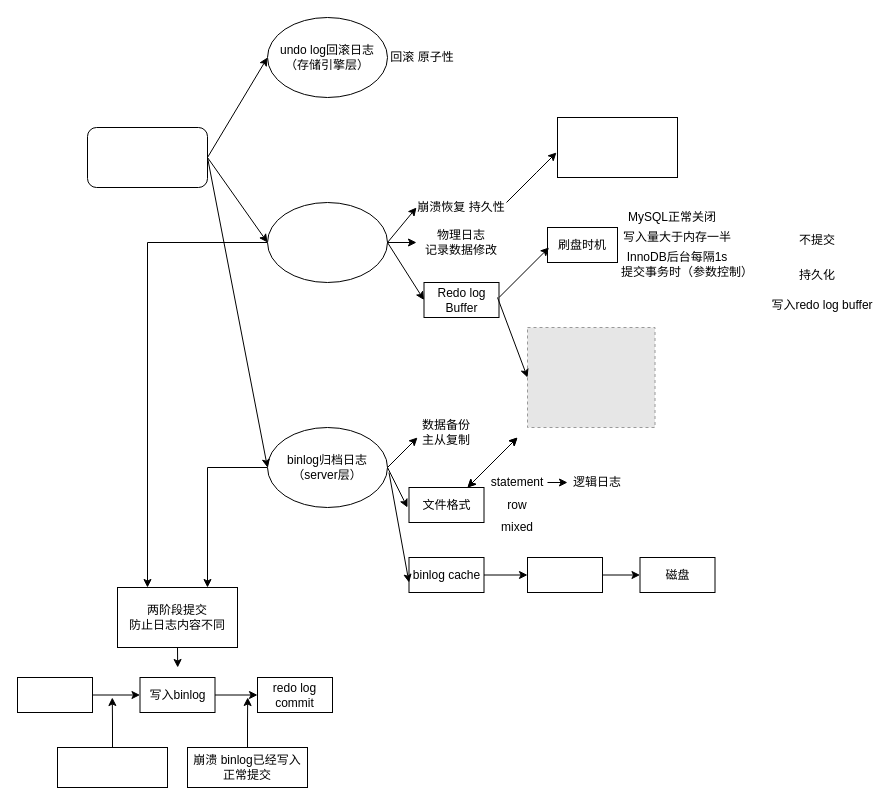
Some shapes in this 895 by 805 pixel diagram are drawn without their labels. Grey dashed boxes stand in for pictures. Each missing label, with the box of its shape:
Buffer Pool将一些数据页存入内存中方便读写修改，崩溃后无法恢复: (556, 116, 678, 178)
MySQL三大日志: (86, 126, 208, 188)
page cache: (526, 556, 602, 592)
redo log重做日志 （存储引擎层）: (266, 202, 388, 282)
写入redo log（prepare）: (16, 676, 92, 712)
崩溃 binlog还没写入 回滚事务: (56, 746, 168, 788)
